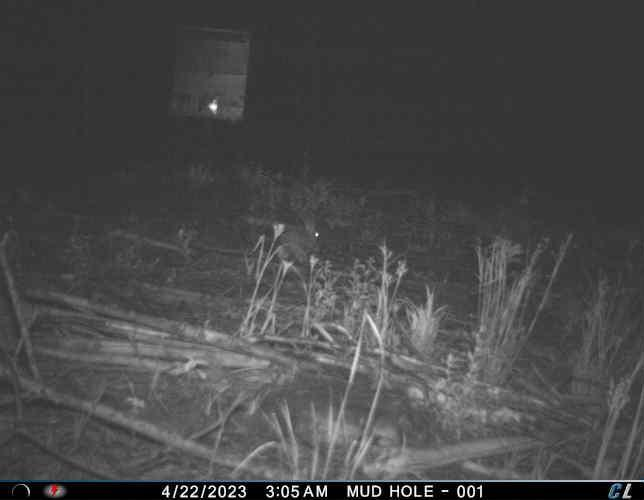Rabbit: (276, 216, 327, 265)
